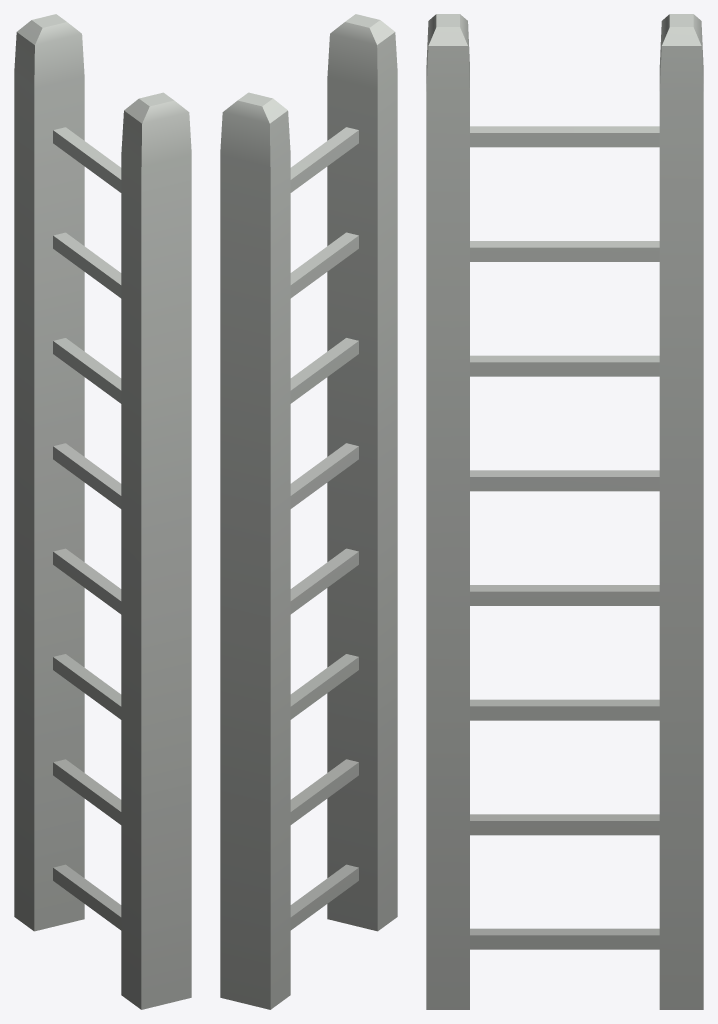
The model's file is Ladder.fbx.
3 renders of one model, left to right at view 1: azimuth 30°, elevation 25°; view 2: azimuth 150°, elevation 25°; view 3: azimuth 270°, elevation 25°, orthographic. The views are drawn at different scales.
Parts seen in each view (by area): view 1: Ladder; view 2: Ladder; view 3: Ladder.
Boxes of the visible parts, <box> form: Ladder: <box>14,14,191,1009</box>; Ladder: <box>220,14,397,1009</box>; Ladder: <box>426,14,703,1009</box>.
Size of the model in its own units: 12.5 by 213 by 54.77.
